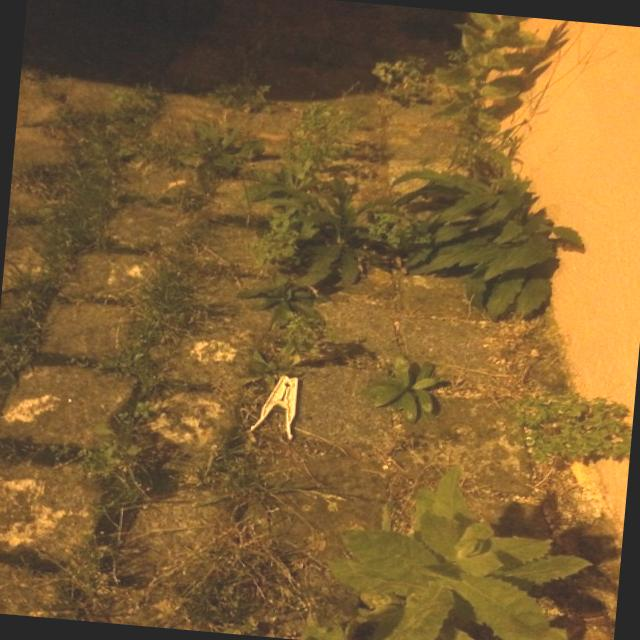Trash: (243, 370, 305, 442)
